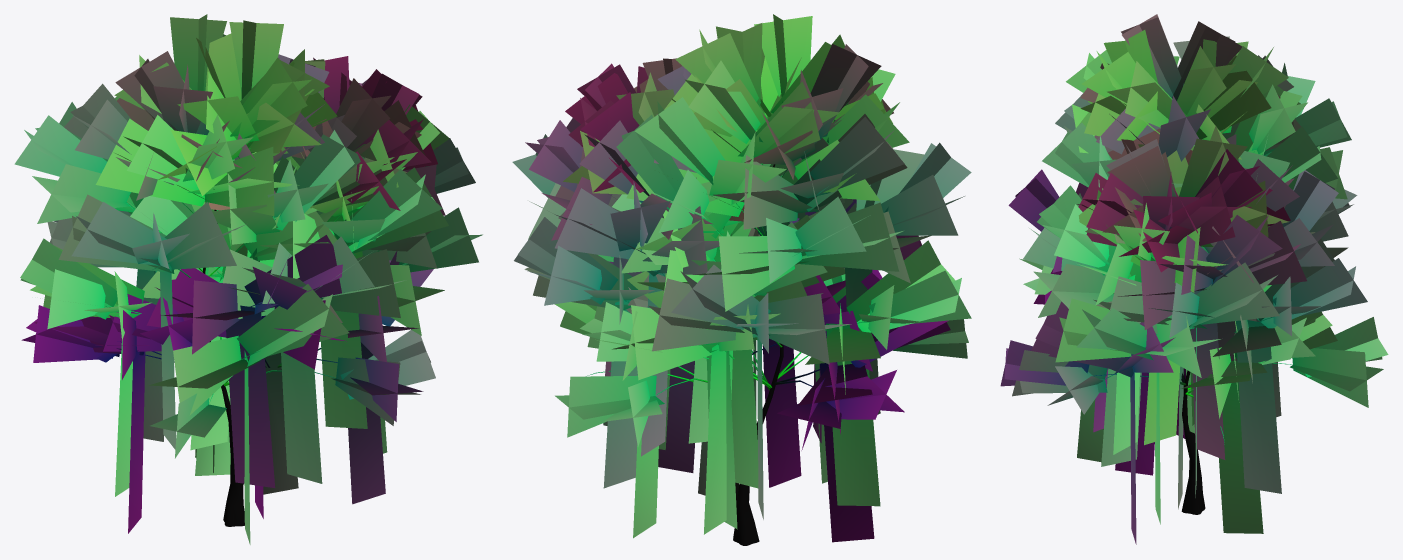
Rendered from Tree_10_6.fbx.
3 renders of one model, left to right at view 1: azimuth 30°, elevation 25°; view 2: azimuth 150°, elevation 25°; view 3: azimuth 270°, elevation 25°, orthographic. The views are drawn at different scales.
Parts seen in each view (by area): view 1: _6; view 2: _6; view 3: _6.
Boxes of the visible parts, x1,y1,x2,y2 form: _6: [14, 14, 482, 544]; _6: [512, 14, 971, 545]; _6: [1000, 14, 1388, 544].
Bounding box in the file's own units: 1626 × 1773 × 1327.
